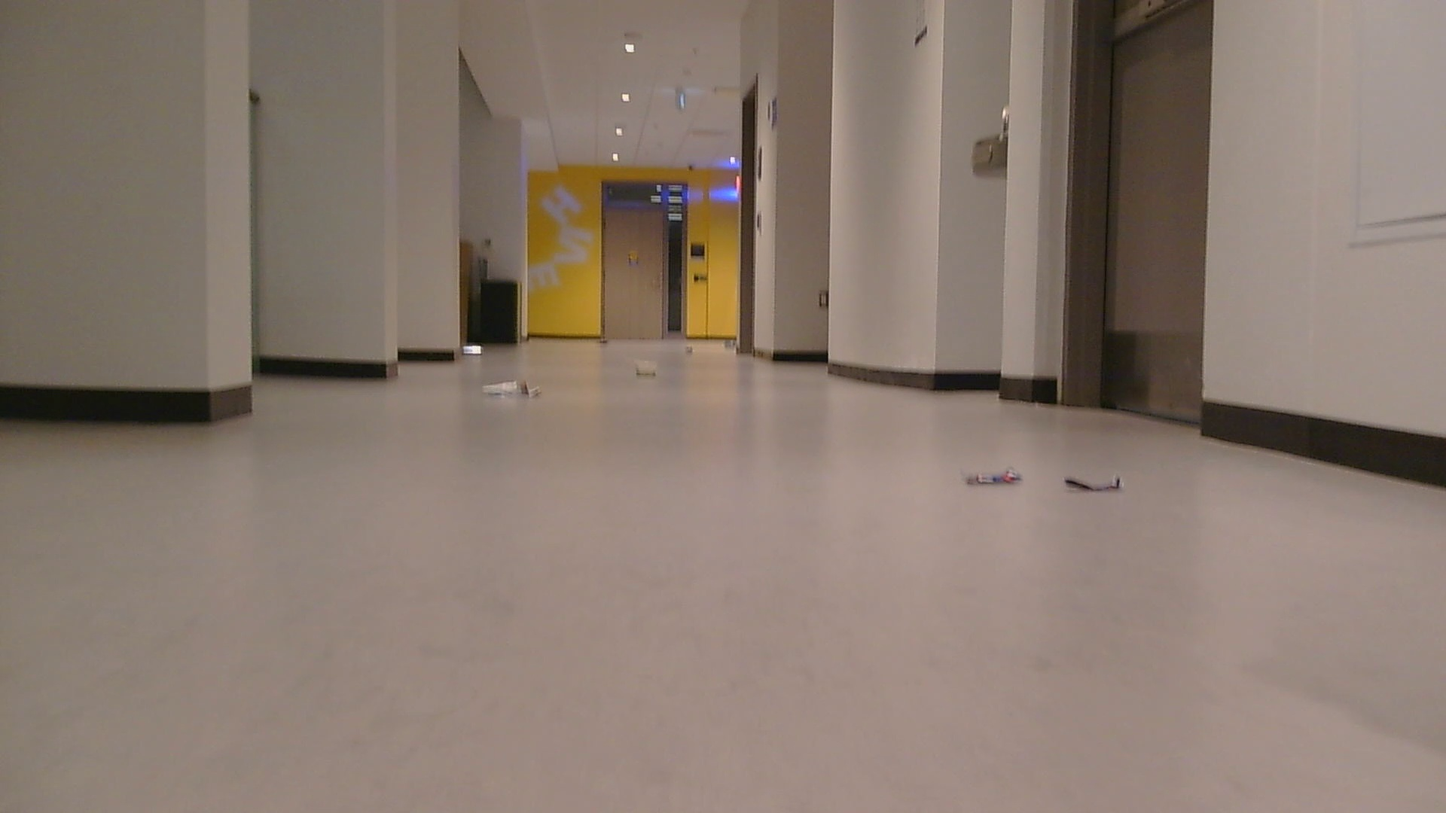carton: (1053, 461, 1133, 501), (471, 379, 555, 410), (966, 461, 1039, 492), (455, 334, 500, 363), (624, 360, 666, 383), (688, 345, 701, 361), (729, 334, 742, 349), (596, 339, 613, 348)
